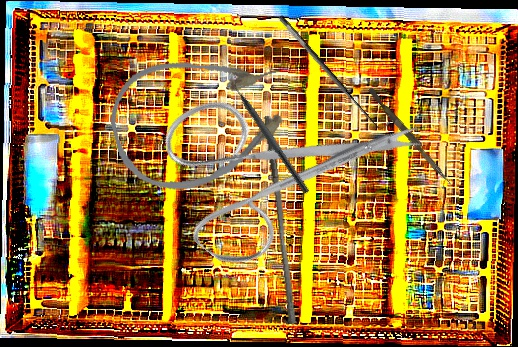Cannula: (99, 34, 304, 205)
Chopper: (224, 71, 318, 195)
Hook Surgical: (276, 6, 393, 138)
Iris Scissors: (121, 5, 432, 318)
Pusher: (255, 115, 304, 325), (365, 87, 456, 186)
